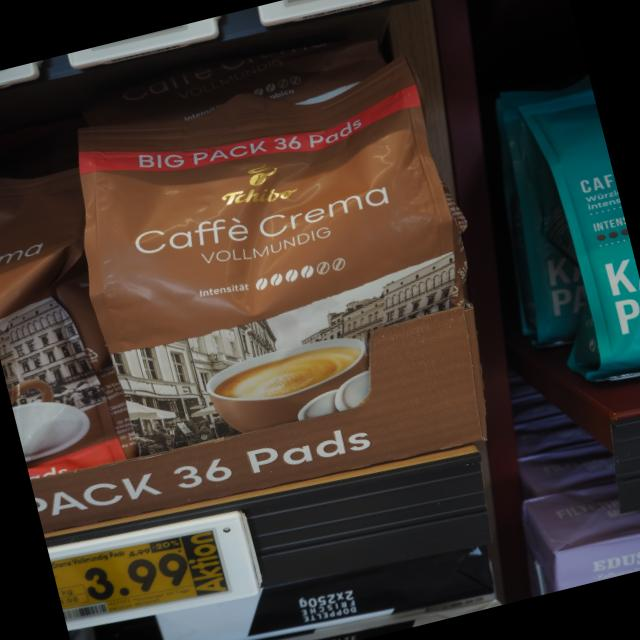CC Vollmundig: (42, 34, 530, 532)
